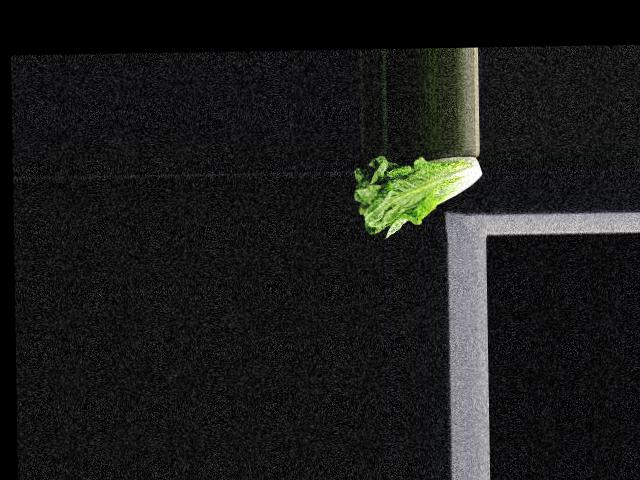lettuce: (351, 153, 484, 237)
